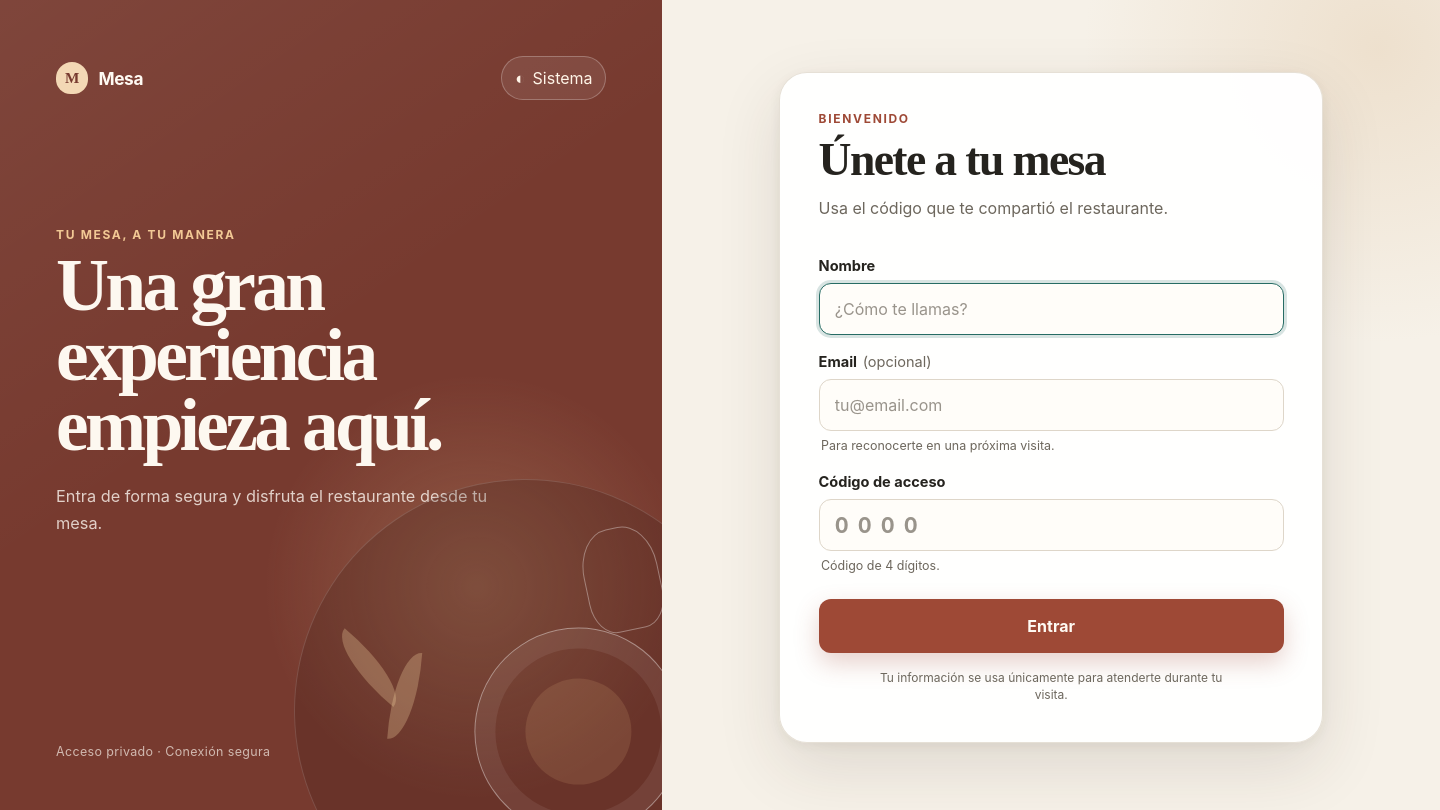
Test: diner access › validates required fields without contacting the API
The width and height of the screenshot is (1440, 810).
What coordinates should you click on to do the following:
click the button "Entrar"
I would click on:
 (1051, 626)
Its box is [819,598,1284,652].
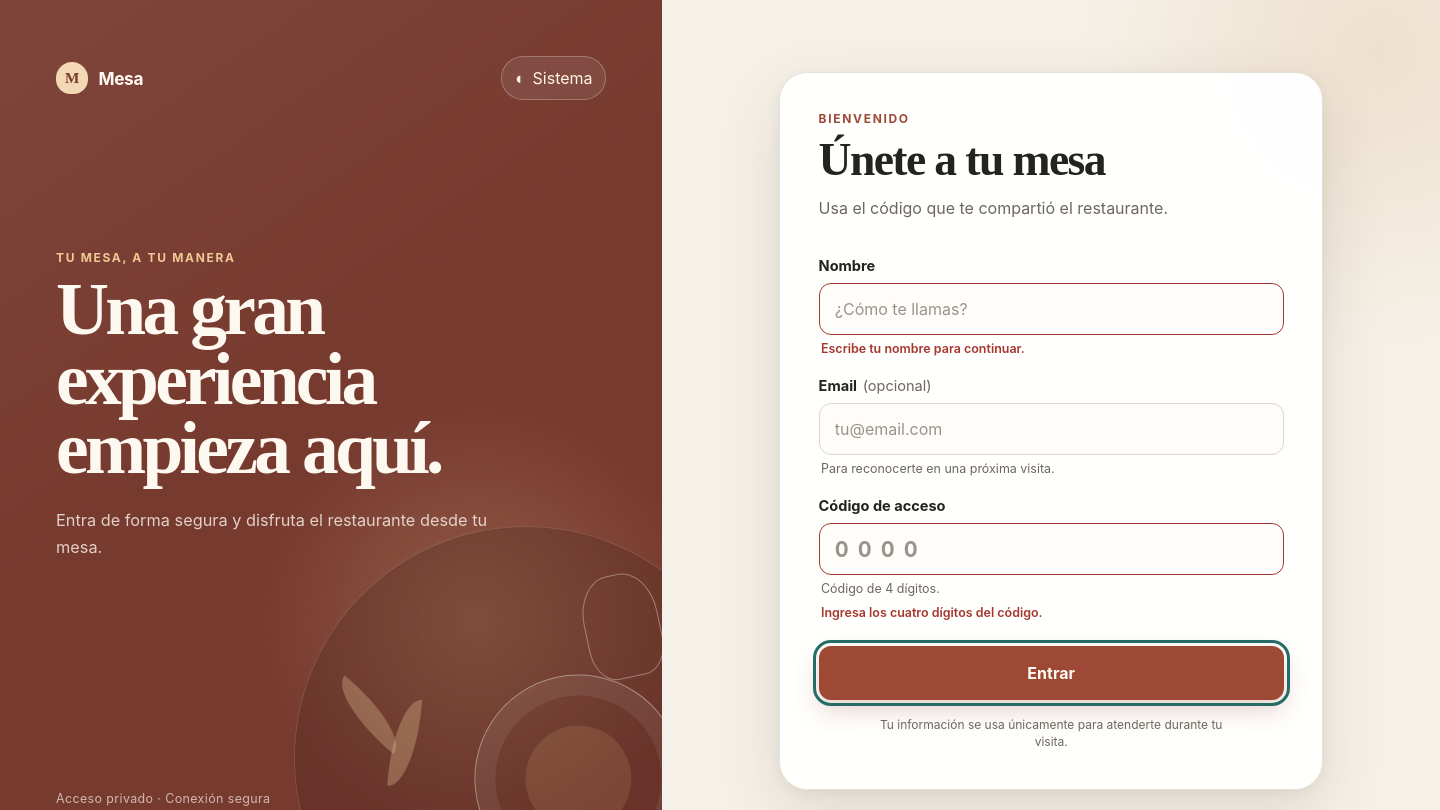
Expected: the text "Escribe tu nombre para continuar." is shown, [821,341,1025,356]
Expected: the text "Ingresa los cuatro dígitos del código." is shown, [821,605,1043,620]
